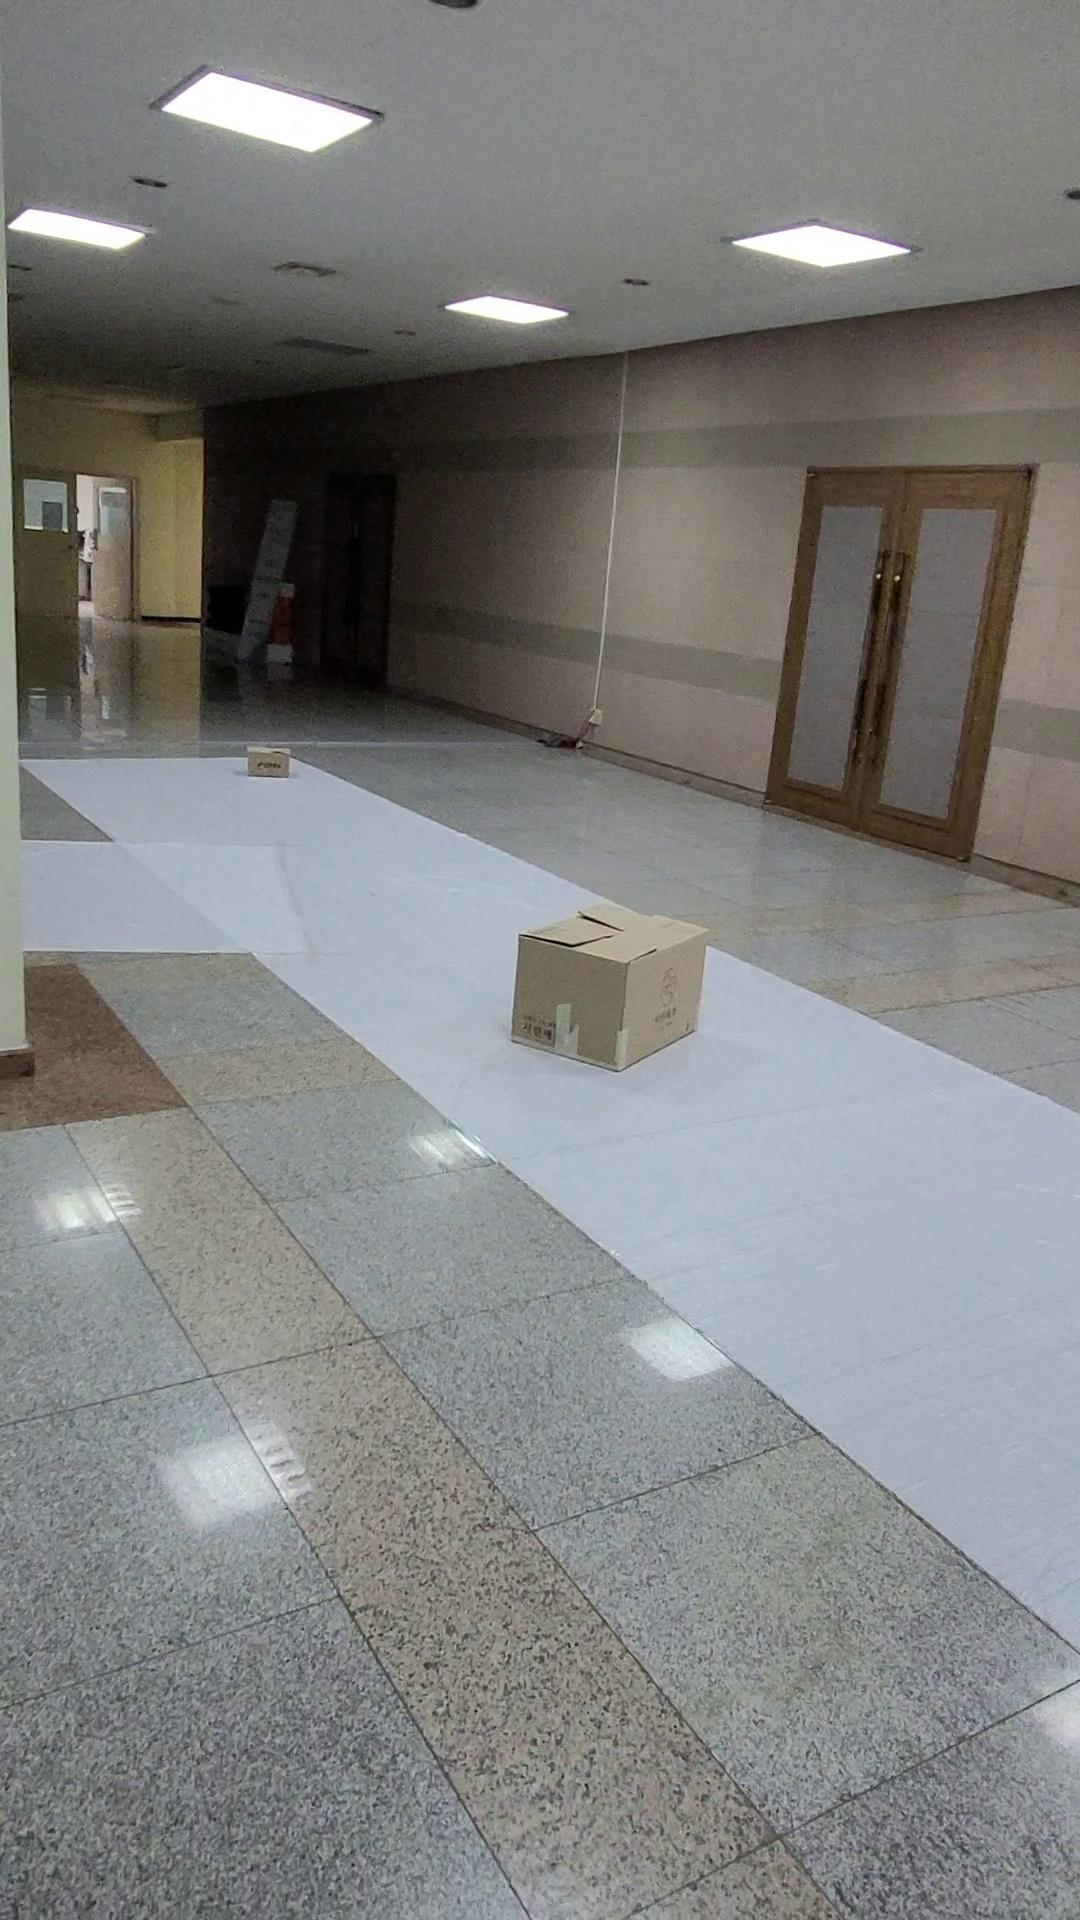Box: (483, 893, 746, 1102), (225, 728, 324, 798)
